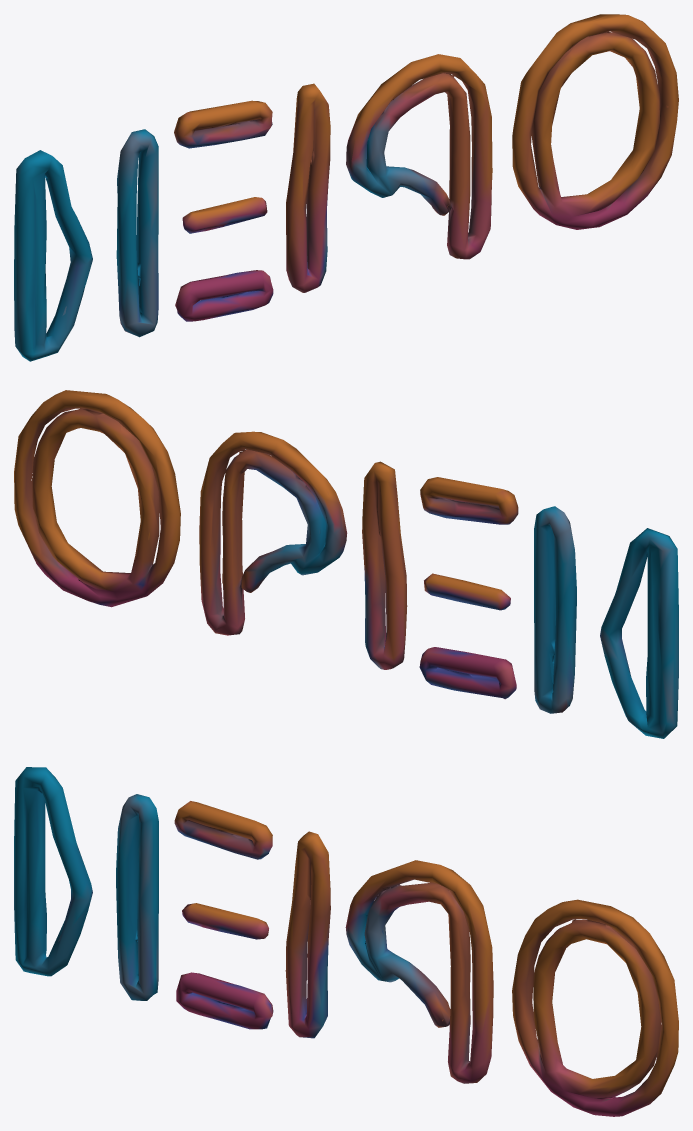
Rendered from gen3d-neon-sign-lod0.glb.
3 views of the same model, one above another, from view 1: azimuth 30°, elevation 25°; view 2: azimuth 150°, elevation 25°; view 3: azimuth 330°, elevation 25° (orthographic).
Visible parts, largest first — view 1: part_0; view 2: part_0; view 3: part_0.
Boxes of the visible parts, bbox=[...] form: part_0: bbox=[14, 14, 678, 361]; part_0: bbox=[14, 390, 678, 738]; part_0: bbox=[14, 767, 678, 1116].
Size of the model in its own units: 3.25 by 1 by 0.0943.
